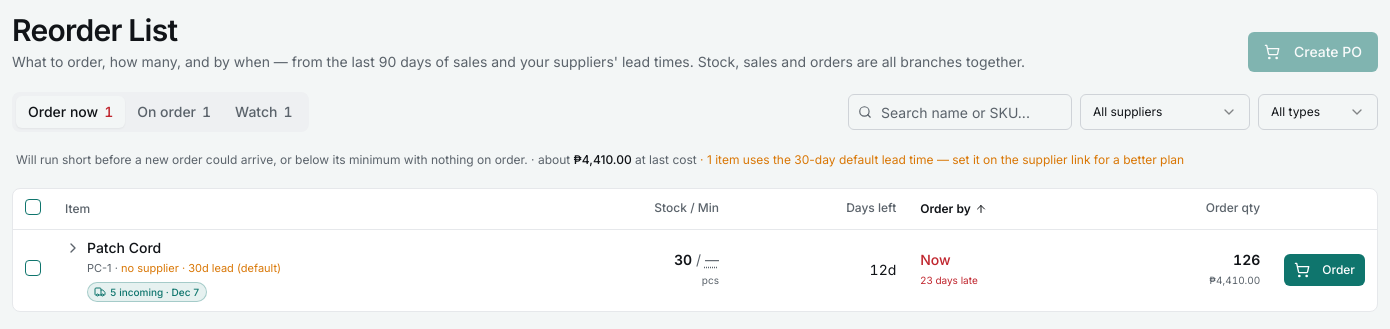
Reorder List › groups items into Order now / On order / Watch and leaves healthy stock out
This screenshot has width=1390, height=329.
Expected: the text "Patch Cord" is shown, [87,238,161,256]
Expected: the text "HDMI Cable" is not shown
Click the tab "Watch1" at {"x": 264, "y": 112}, box [223,96,305,128]
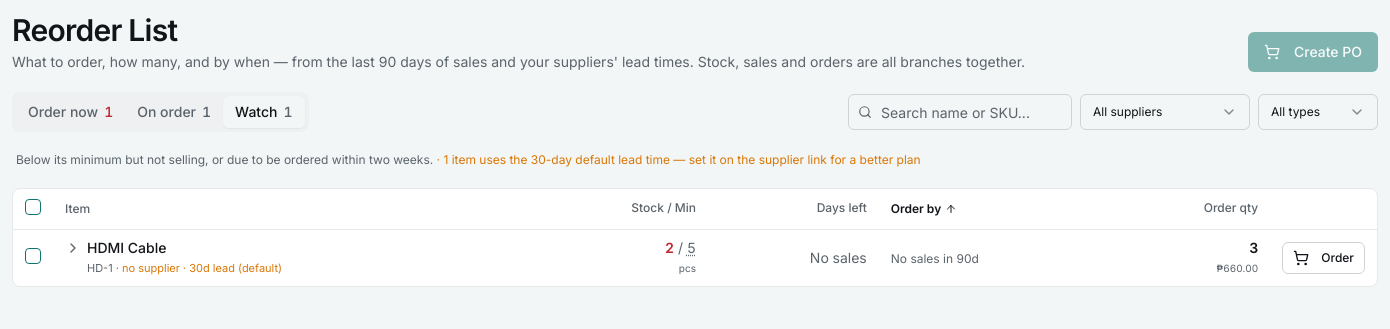
Result: the text "HDMI Cable" is shown at [87,238,166,256]
